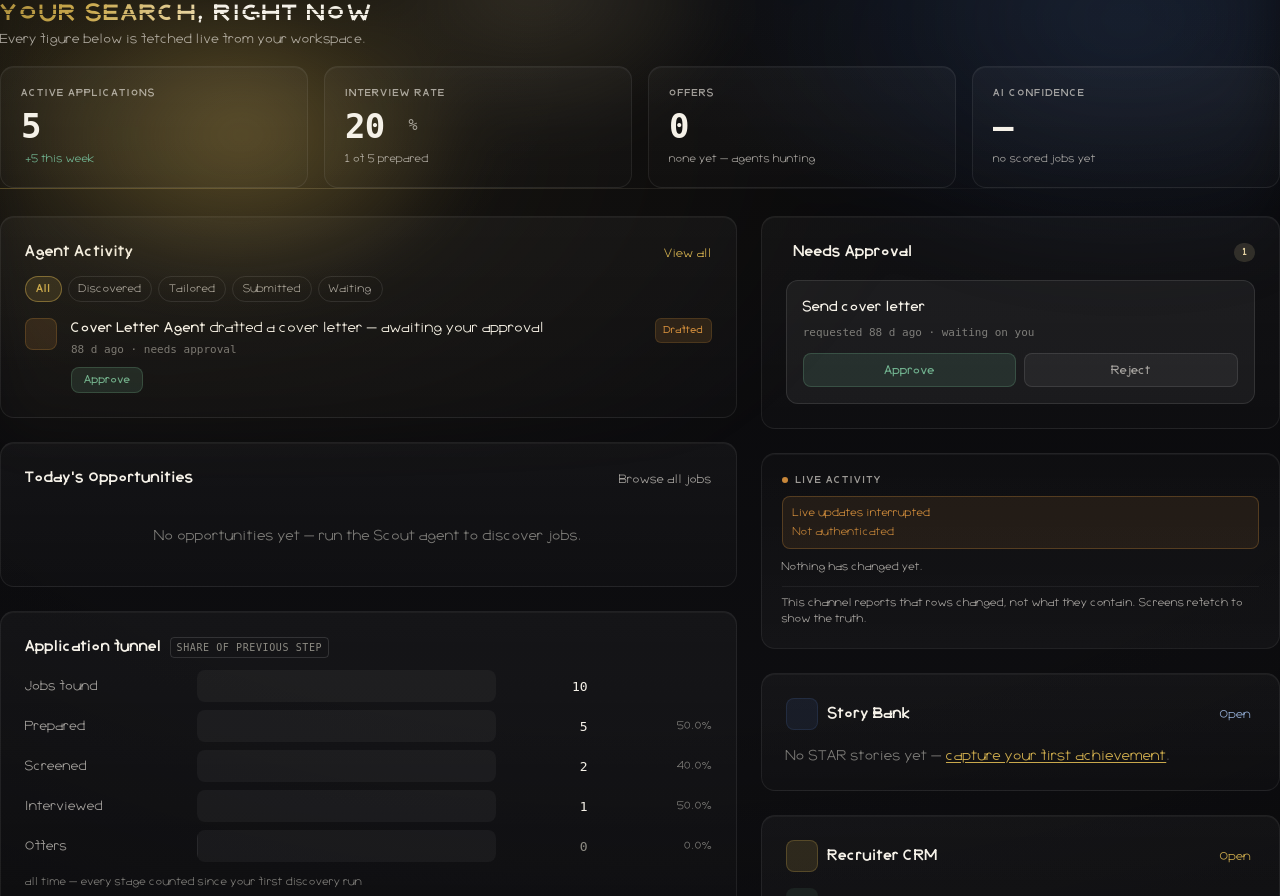
Test: Dashboard agent feed — MV-dashboard-009 stale Approve button › shows an honest, non-technical error and never leaks the raw HTTP method/endpoint/JSON when approve 409s
Click the button "Approve" below "· needs approval" at coordinates (107, 380), box [71,367,143,393]
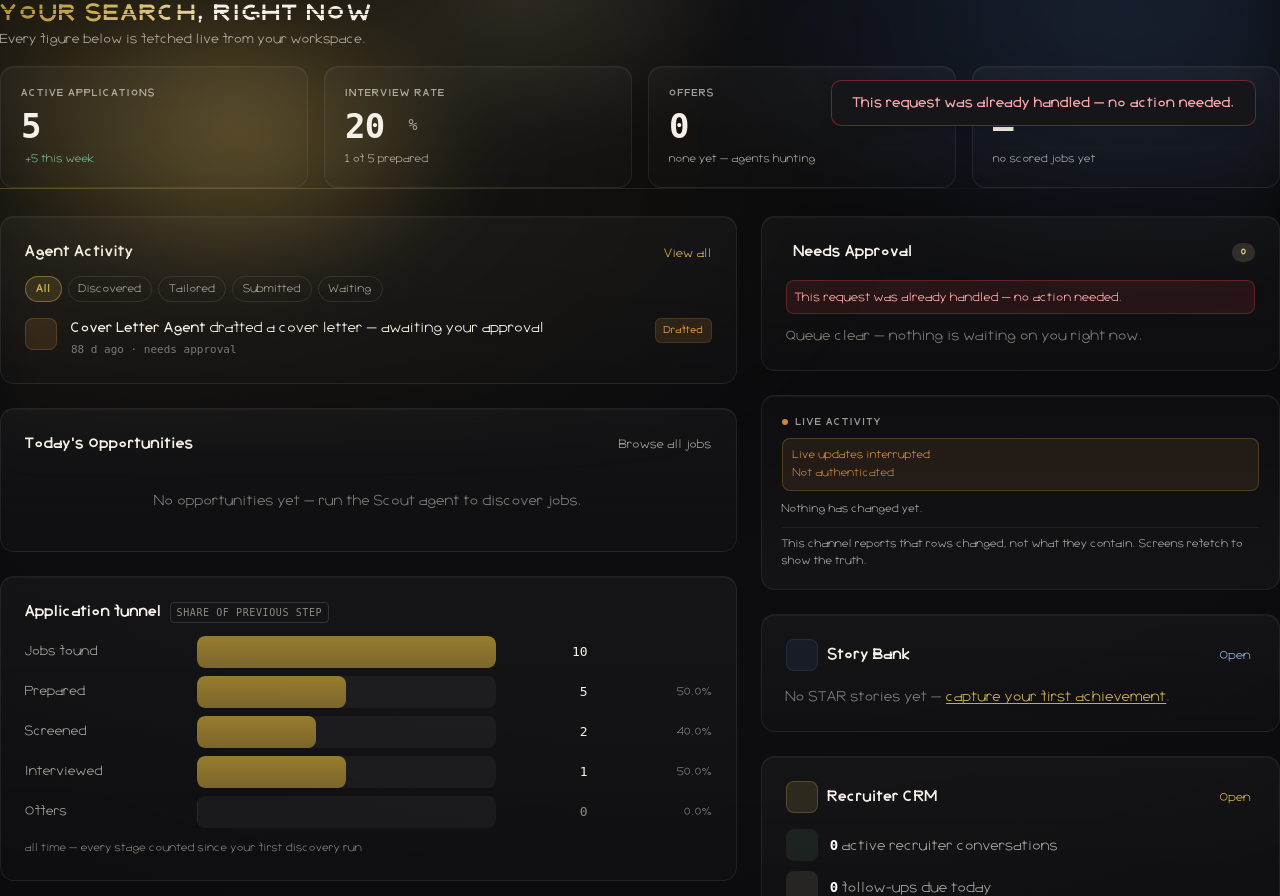
Expected: the 1st message "This request was already handled — no action needed." is shown, [831,80,1256,126]
